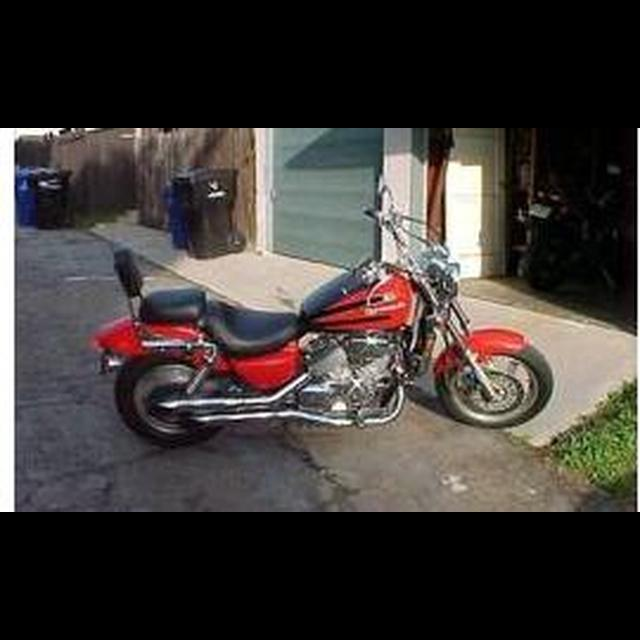motorcycle: (89, 171, 559, 451)
